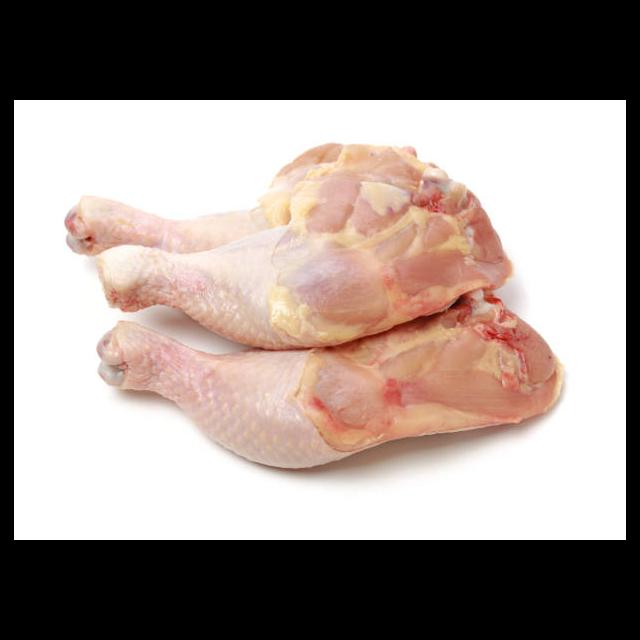chicken: (65, 142, 569, 473)
